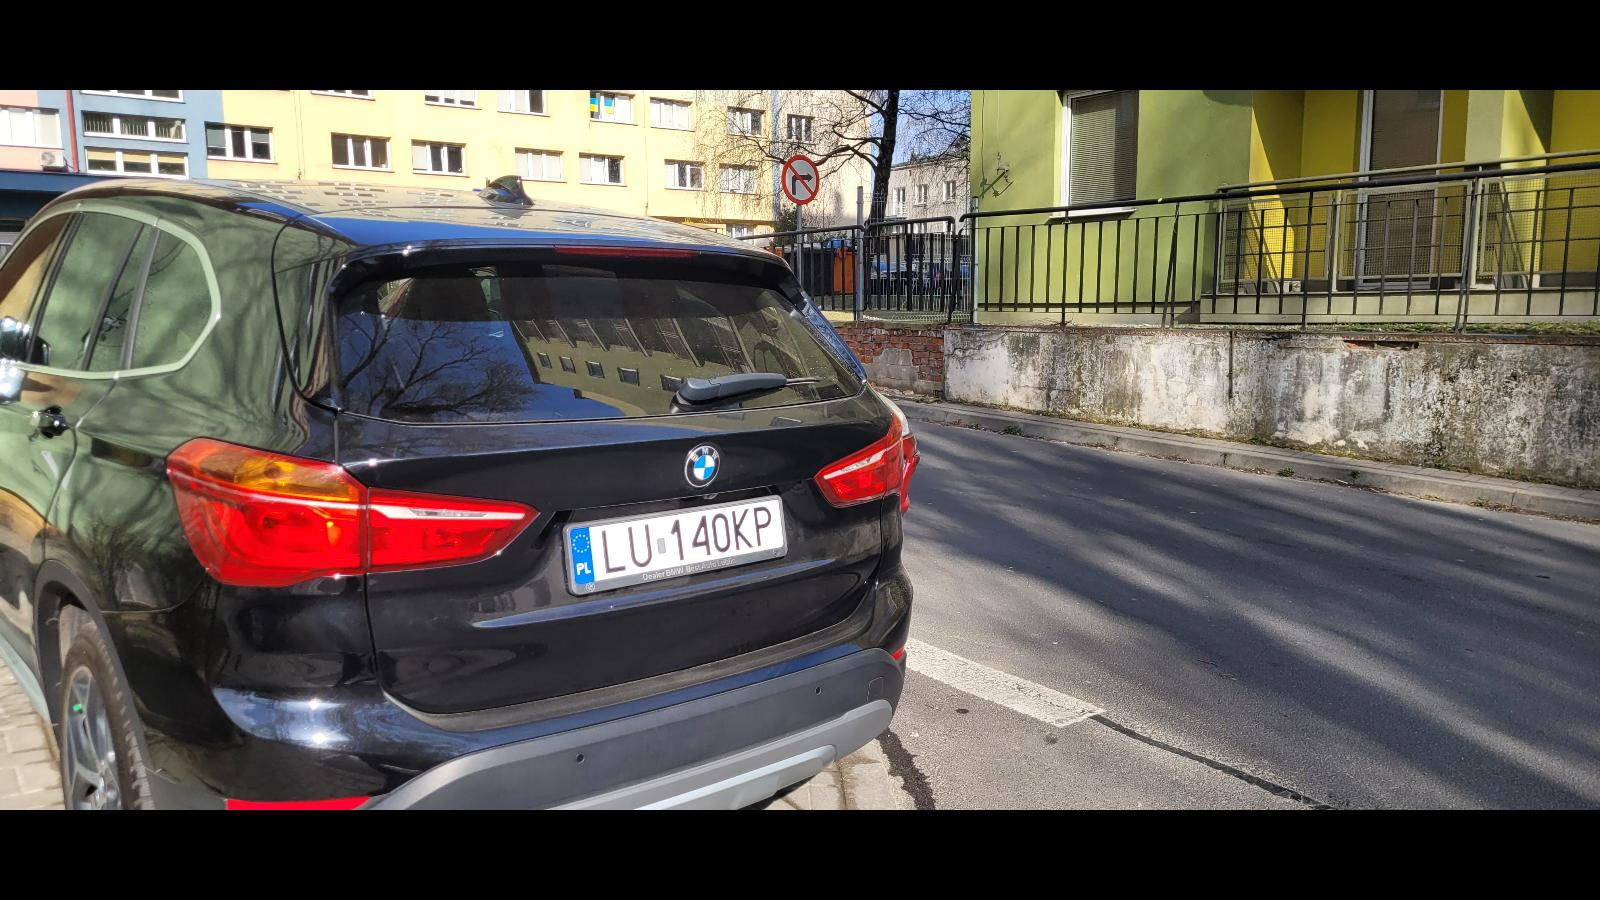plates: (563, 494, 789, 596)
